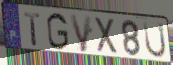8: (120, 19, 141, 58)
G: (45, 12, 70, 52)
T: (23, 11, 42, 47)
U: (142, 20, 168, 60)
V: (68, 14, 93, 54)
X: (94, 15, 120, 56)
